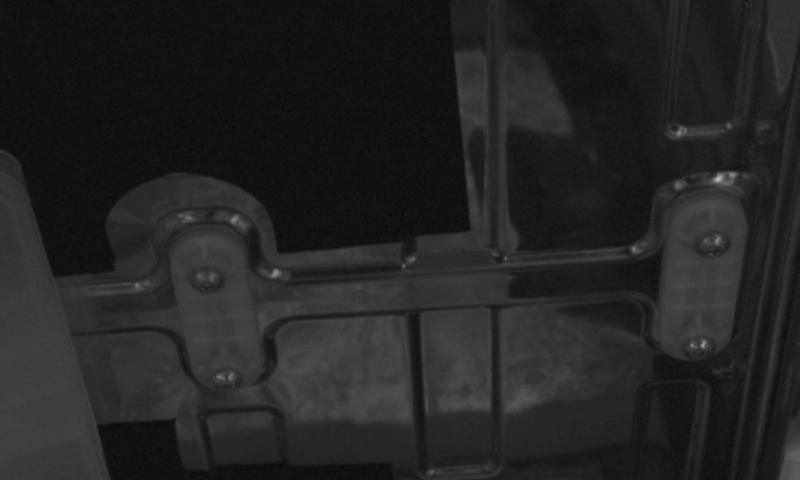vida-ok: (187, 259, 232, 303), (692, 225, 738, 268), (681, 327, 727, 367), (205, 360, 250, 399)
